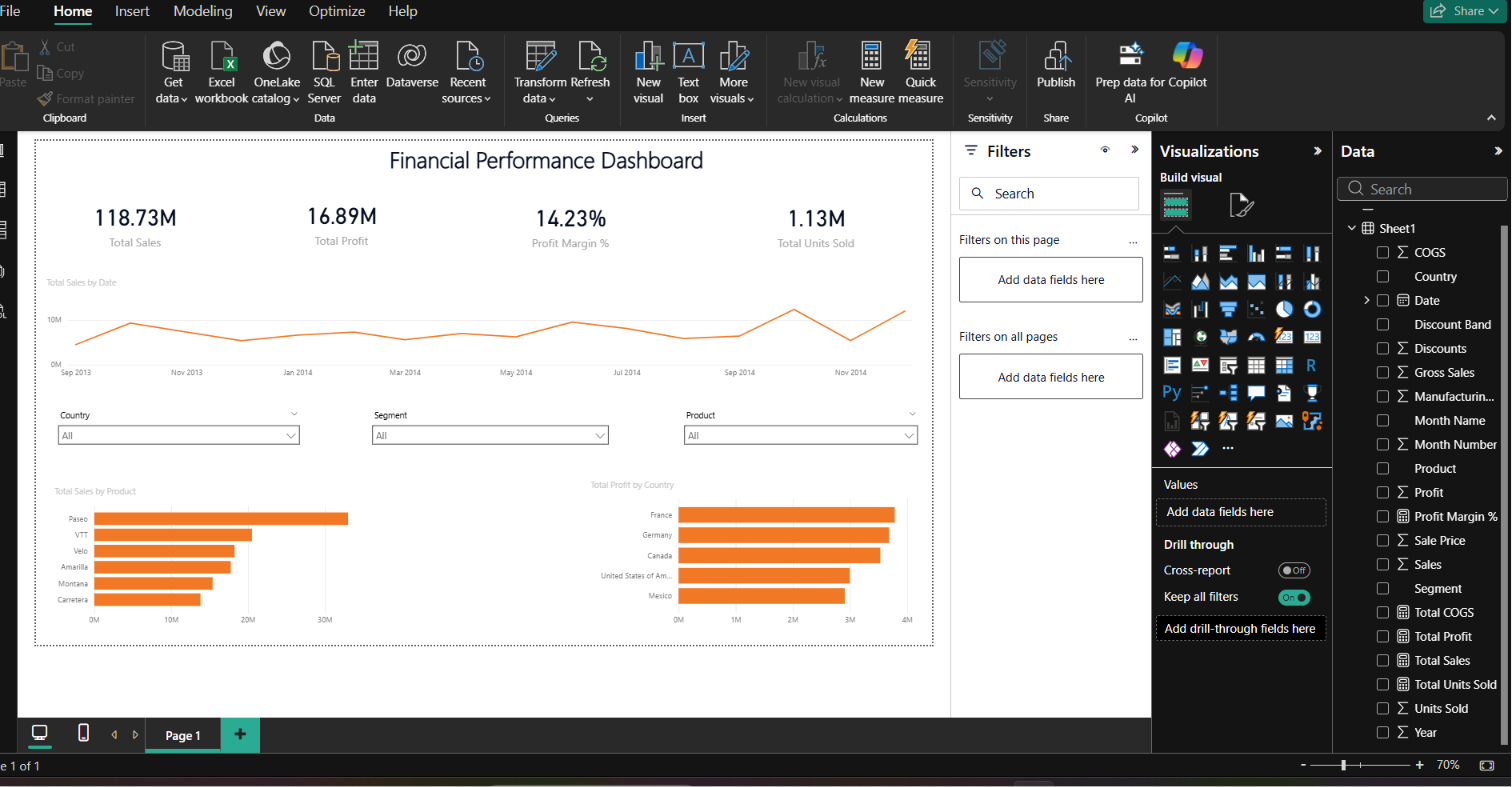

Layout of this report page (visuals, bound fields, positions):
{"tool":"powerbi","page":{"name":"Page 1","canvas":[1280,720],"ordinal":0},"visuals":[{"type":"card","fields":{"Values":["Sheet1.Total Sales"]},"box":[9.6,67.2,263.5,102.9],"z":0},{"type":"card","fields":{"Values":["Sheet1.Total Profit"]},"box":[300.5,64.5,273.1,102.9],"z":1},{"type":"card","fields":{"Values":["Sheet1.Profit Margin %"]},"box":[625.7,68.6,275.8,101.5],"z":2},{"type":"card","fields":{"Values":["Sheet1.Total Units Sold"]},"box":[982.5,68.6,263.5,101.5],"z":3},{"type":"lineChart","fields":{"Y":["Sheet1.Total Sales"],"Category":["Sheet1.Date"]},"box":[9.6,194.9,1259.7,153.7],"z":4},{"type":"clusteredBarChart","fields":{"Category":["Sheet1.Product"],"Y":["Sheet1.Total Sales"]},"box":[22,492.6,462.4,208.6],"z":5},{"type":"clusteredBarChart","fields":{"Category":["Sheet1.Country"],"Y":["Sheet1.Total Profit"]},"box":[787.7,483,470.7,218.2],"z":6},{"type":"slicer","fields":{"Values":["Sheet1.Country"]},"box":[22,378.7,365,78.2],"z":7},{"type":"slicer","fields":{"Values":["Sheet1.Segment"]},"box":[470.7,378.7,358.1,78.2],"z":8},{"type":"slicer","fields":{"Values":["Sheet1.Product"]},"box":[915.3,378.7,354,78.2],"z":9},{"type":"textbox","box":[499.5,0,483,53.5],"z":10}]}

Visuals, with their boxes on the page's 1280x720 design canvas (x1, y1, x2, y2). These are canvas units, not pixel positions in the 1512x787 screenshot, which may show the page scaled, cropped or inside an application window:
card - Sheet1.Total Sales: <box>10,67,273,170</box>
card - Sheet1.Total Profit: <box>300,64,574,167</box>
card - Sheet1.Profit Margin %: <box>626,69,902,170</box>
card - Sheet1.Total Units Sold: <box>982,69,1246,170</box>
lineChart - Sheet1.Total Sales x Sheet1.Date: <box>10,195,1269,349</box>
clusteredBarChart - Sheet1.Product x Sheet1.Total Sales: <box>22,493,484,701</box>
clusteredBarChart - Sheet1.Country x Sheet1.Total Profit: <box>788,483,1258,701</box>
slicer - Sheet1.Country: <box>22,379,387,457</box>
slicer - Sheet1.Segment: <box>471,379,829,457</box>
slicer - Sheet1.Product: <box>915,379,1269,457</box>
textbox: <box>500,0,982,54</box>
